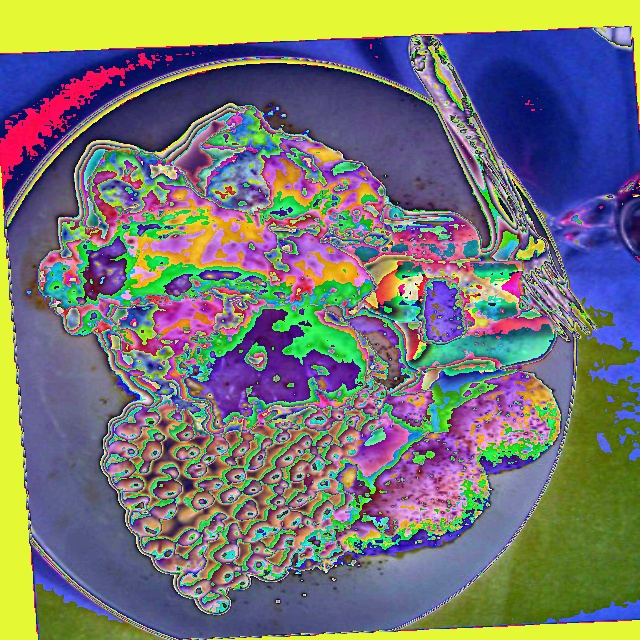background: (39, 105, 563, 614)
